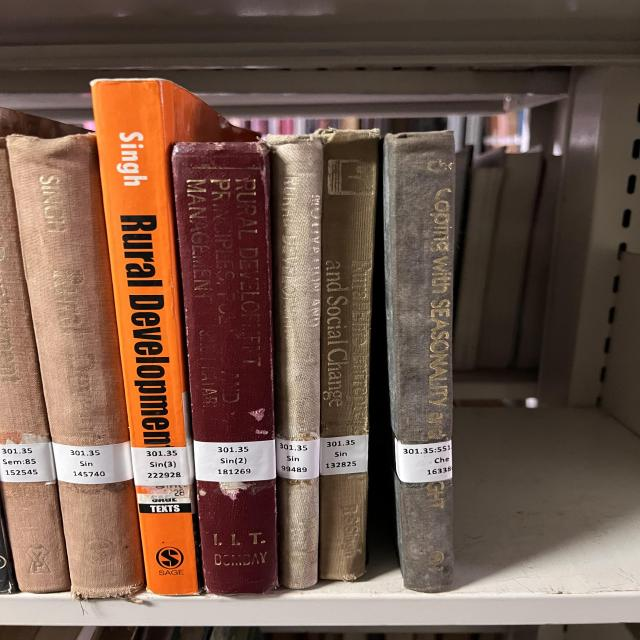Book: (92, 79, 263, 595), (7, 134, 145, 599), (172, 141, 277, 594), (383, 131, 455, 592), (0, 138, 68, 592), (318, 130, 380, 581), (267, 135, 323, 589), (0, 110, 85, 139)
Label: (193, 440, 277, 482), (52, 441, 133, 484), (395, 439, 452, 482), (132, 446, 192, 486), (0, 442, 57, 482), (320, 435, 368, 475), (275, 439, 320, 480)
